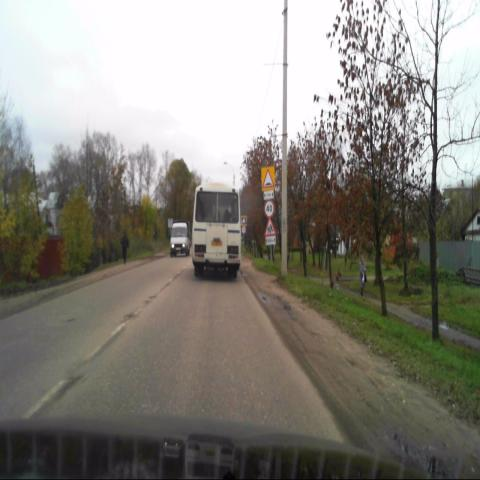1_17: (261, 165, 275, 190)
